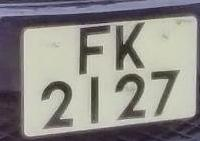1: (81, 71, 109, 128)
2: (31, 74, 84, 131), (109, 68, 152, 123)
7: (146, 65, 183, 122)
F: (67, 21, 117, 79)
K: (109, 17, 154, 75)
